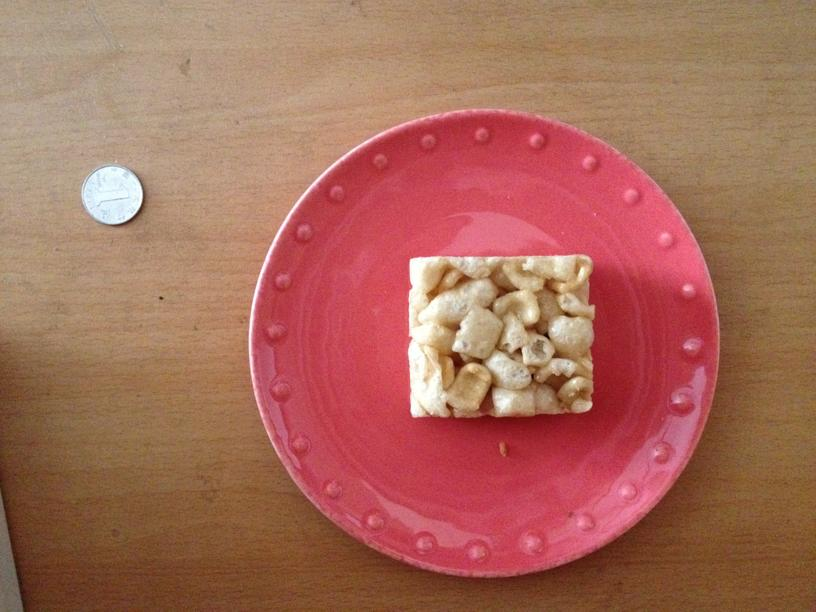coin: (81, 165, 142, 225)
sachima: (404, 249, 597, 417)
